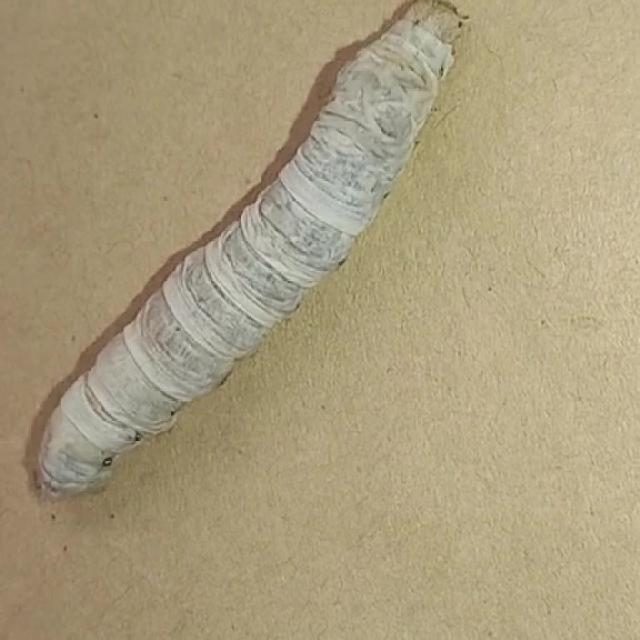Grasserie: (22, 1, 467, 501)
